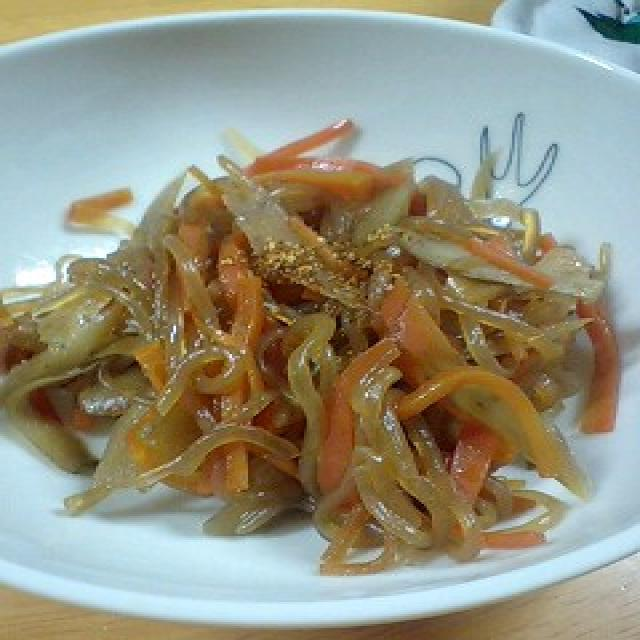蔬菜料理: (0, 96, 629, 600)
